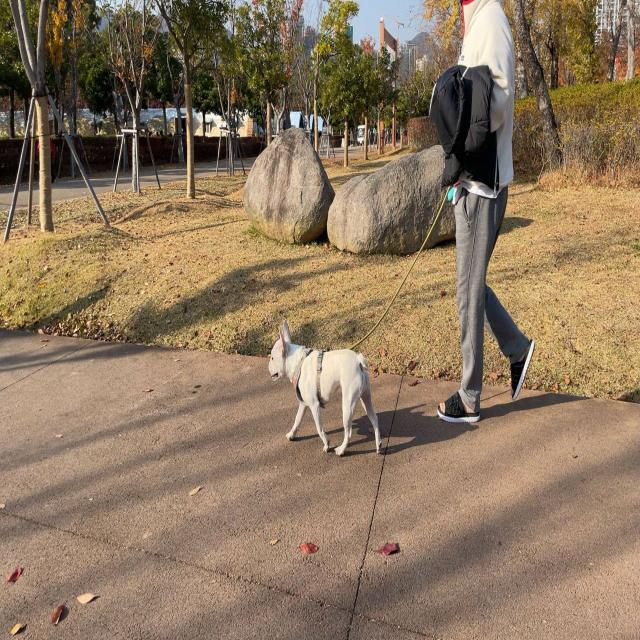Leashed_Dog: (267, 161, 468, 458)
